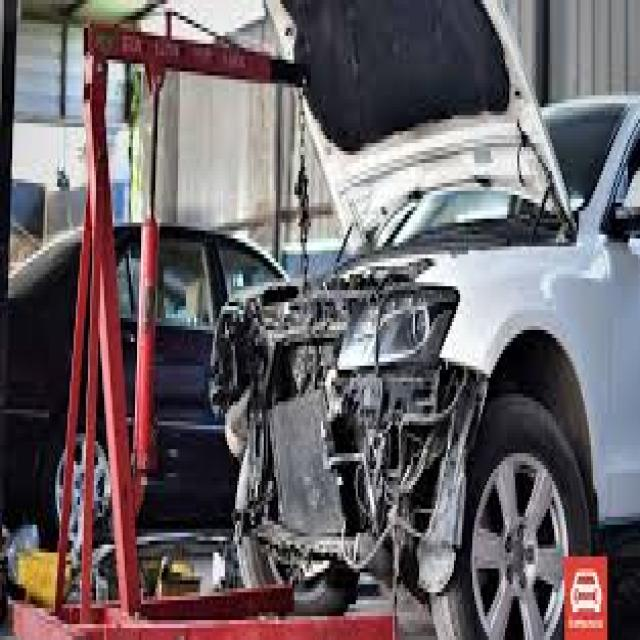Severe Damage: (193, 230, 484, 632)
